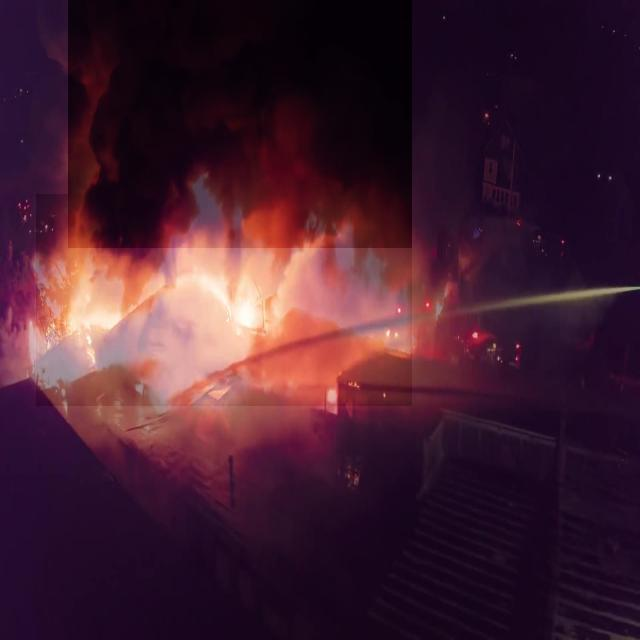Fire: (36, 194, 412, 406)
Smoke: (68, 0, 412, 248)
